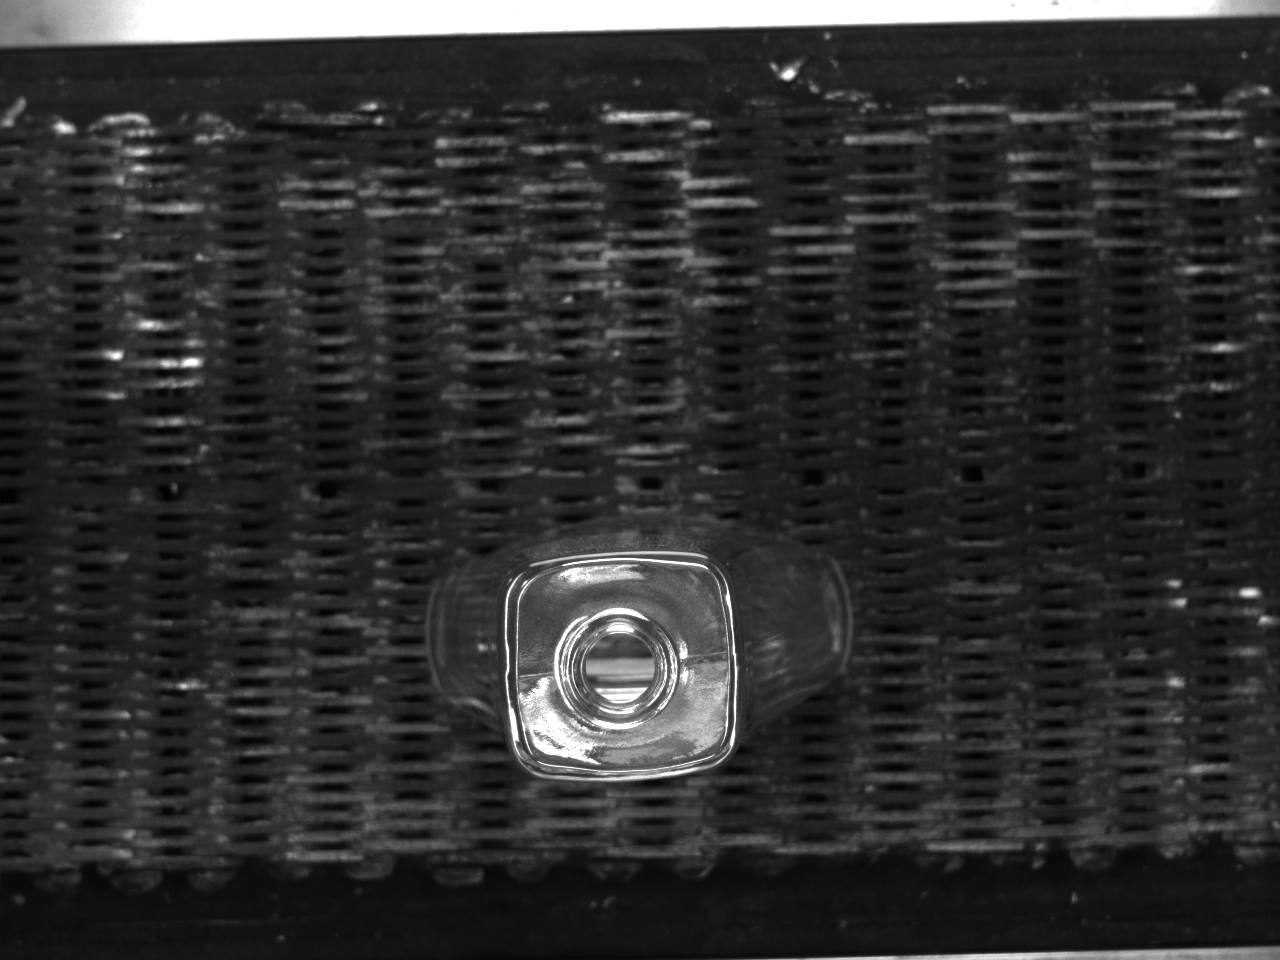bottleneck: (560, 609, 678, 728)
